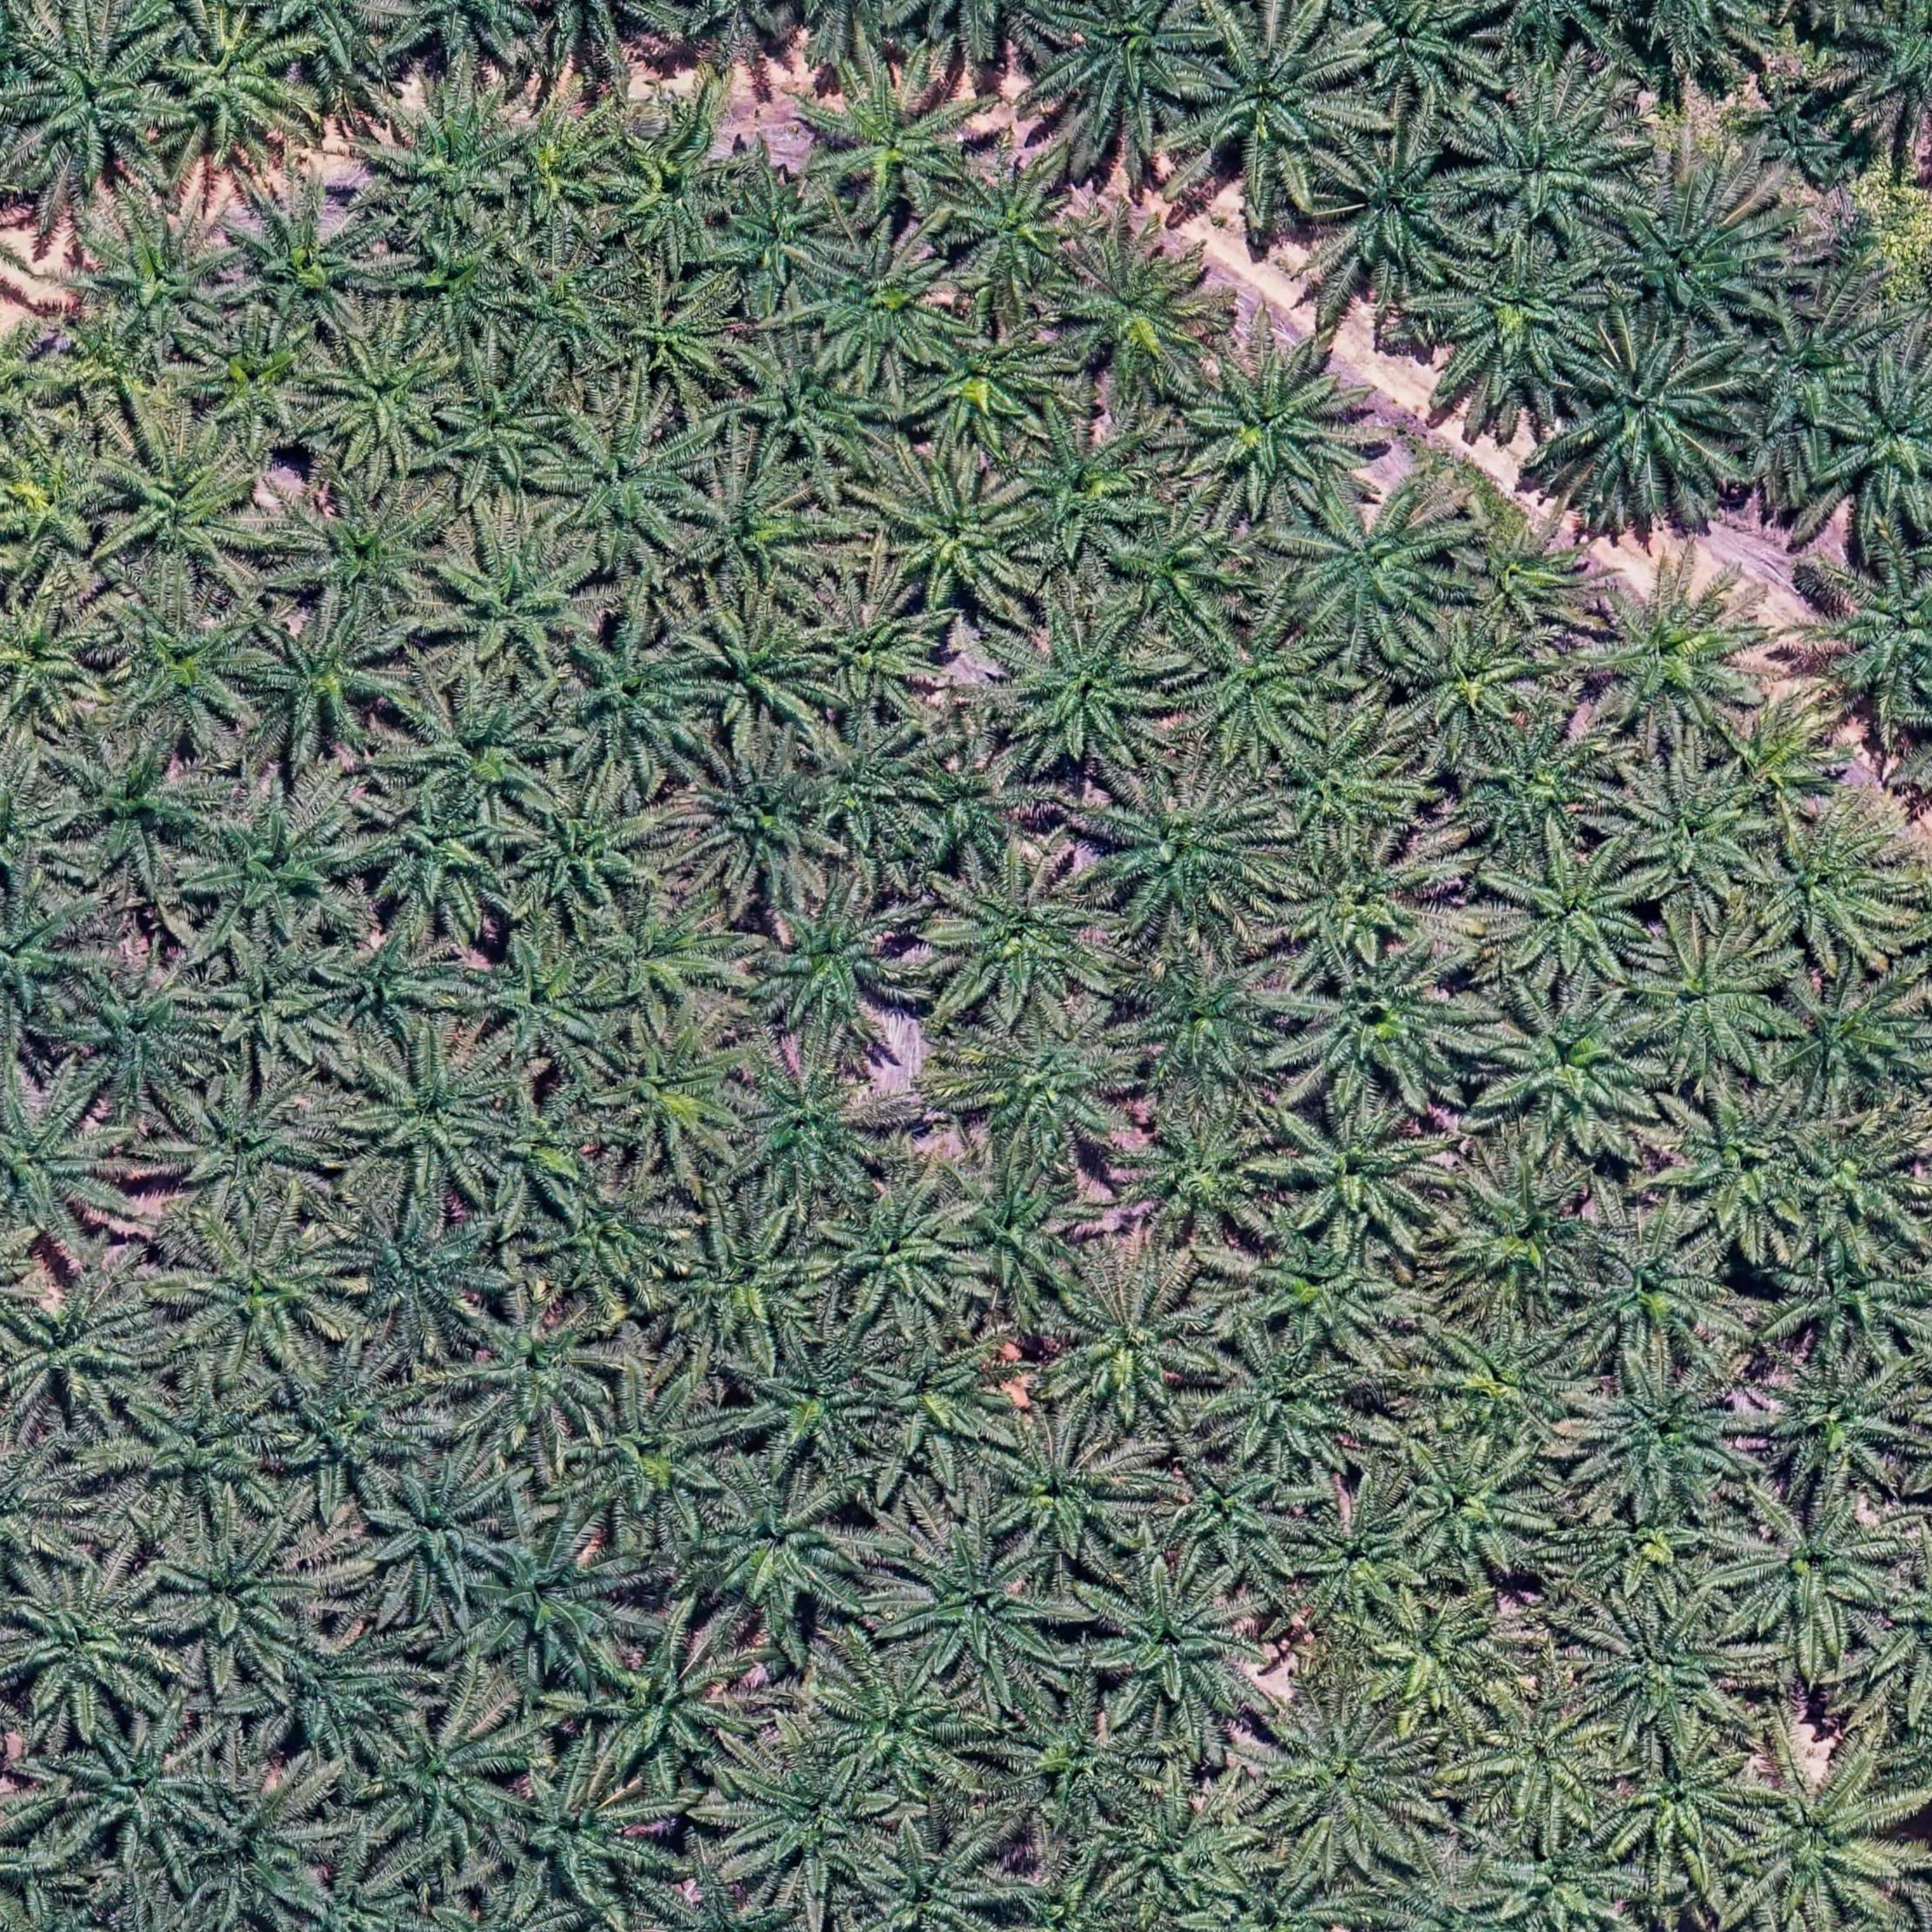palmtree: (1584, 561, 1776, 747), (1281, 935, 1487, 1106), (1183, 12, 1367, 195), (932, 858, 1124, 1028), (1032, 1263, 1219, 1438), (1181, 341, 1368, 514), (743, 879, 928, 1052), (1559, 332, 1742, 505), (1737, 1747, 1916, 1923), (1095, 771, 1284, 937), (466, 1508, 641, 1687), (992, 602, 1176, 772), (887, 1520, 1071, 1689), (1425, 241, 1611, 409), (166, 1214, 359, 1373), (1434, 1151, 1612, 1322), (340, 1028, 517, 1201), (188, 788, 376, 949), (1482, 985, 1665, 1150), (1578, 1352, 1762, 1514), (156, 1069, 340, 1231), (7, 1559, 181, 1729), (567, 1372, 743, 1540), (1264, 1698, 1441, 1865), (960, 1007, 1142, 1170), (1093, 1555, 1268, 1724), (689, 1469, 866, 1636), (1271, 1094, 1456, 1252), (1288, 481, 1466, 645), (808, 55, 987, 217), (1463, 92, 1646, 251), (1607, 174, 1785, 337), (573, 1628, 753, 1790), (1119, 948, 1295, 1111), (1726, 1495, 1903, 1657), (108, 425, 276, 595), (553, 619, 722, 787), (262, 1348, 432, 1513), (1743, 808, 1918, 968), (333, 1198, 509, 1358), (431, 527, 608, 685), (872, 453, 1045, 614), (1656, 1085, 1822, 1253), (1058, 230, 1224, 396), (155, 1515, 326, 1677), (16, 16, 180, 184), (1269, 826, 1449, 977), (6, 1266, 170, 1432), (676, 742, 842, 905), (69, 203, 242, 359), (364, 1707, 531, 1869), (1316, 129, 1482, 292), (104, 592, 275, 748), (1588, 1600, 1762, 1753), (735, 1044, 902, 1202), (56, 1714, 225, 1870), (120, 1374, 293, 1526), (547, 412, 714, 570), (279, 483, 457, 630), (948, 1157, 1108, 1321), (225, 189, 392, 345), (1631, 917, 1796, 1074), (49, 735, 218, 887), (666, 1207, 834, 1361), (1491, 837, 1659, 990), (730, 1745, 899, 1898), (1111, 1104, 1287, 1250), (593, 1012, 755, 1170), (1201, 1332, 1372, 1480), (1573, 1212, 1737, 1366), (260, 1621, 428, 1769), (247, 606, 412, 756), (359, 783, 524, 933), (182, 1766, 339, 1923), (359, 1453, 515, 1611), (1174, 606, 1334, 760), (468, 1293, 621, 1454), (1753, 1350, 1920, 1497), (500, 778, 669, 922), (675, 458, 838, 608), (1454, 711, 1620, 857), (814, 1182, 976, 1331), (1422, 1313, 1595, 1452), (987, 1417, 1150, 1565), (0, 1071, 132, 1251), (1008, 418, 1168, 566), (1615, 762, 1775, 910), (730, 337, 896, 478), (1557, 1478, 1731, 1612), (162, 13, 314, 165), (531, 1170, 695, 1310), (816, 1652, 978, 1795), (465, 929, 623, 1073), (805, 234, 964, 378), (1046, 0, 1217, 134), (63, 964, 217, 1111), (1245, 1223, 1408, 1362), (868, 1329, 1022, 1475), (1394, 607, 1553, 748), (377, 88, 530, 234), (582, 891, 744, 1029), (406, 681, 564, 821), (1471, 1690, 1623, 1835), (997, 1696, 1157, 1832), (1401, 1435, 1558, 1575), (687, 601, 836, 747), (1764, 1231, 1926, 1364), (1771, 972, 1925, 1111), (1275, 707, 1422, 850), (313, 327, 461, 470), (742, 1333, 897, 1468), (201, 940, 353, 1078), (915, 309, 1067, 446), (1289, 1494, 1434, 1636), (946, 159, 1091, 298), (801, 579, 945, 715), (1817, 548, 1932, 718), (1447, 504, 1595, 635), (497, 100, 629, 247), (1738, 301, 1886, 432), (1158, 1450, 1306, 1580), (324, 913, 472, 1040), (0, 427, 128, 576), (1111, 500, 1253, 633), (1786, 1118, 1928, 1250), (1368, 1589, 1514, 1718), (440, 364, 578, 499), (900, 746, 1042, 878), (1617, 1738, 1762, 1867), (187, 314, 328, 445), (603, 133, 742, 262), (531, 1761, 657, 1903), (861, 1823, 1022, 1932), (715, 174, 849, 300), (1830, 366, 1932, 530), (803, 719, 933, 847), (0, 591, 115, 735), (0, 1428, 97, 1596), (610, 279, 742, 400), (484, 1091, 610, 1217), (1112, 1790, 1251, 1904), (0, 883, 102, 1033), (397, 226, 521, 348), (1736, 69, 1860, 192), (1342, 0, 1492, 101), (1727, 702, 1846, 822), (1502, 1828, 1637, 1932), (510, 259, 633, 372), (60, 309, 168, 419), (385, 0, 544, 70), (1220, 1863, 1362, 1932), (1856, 0, 1931, 126)
